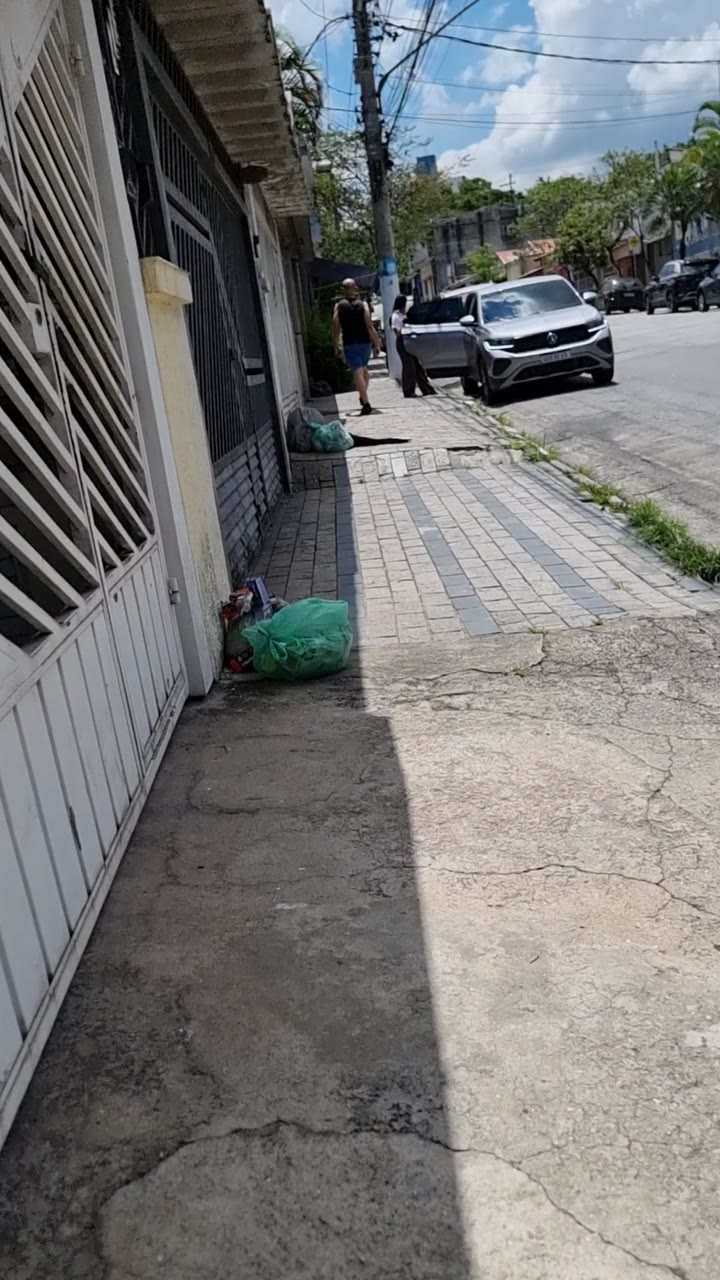obstaculo: (243, 598, 352, 680), (288, 410, 360, 461)
